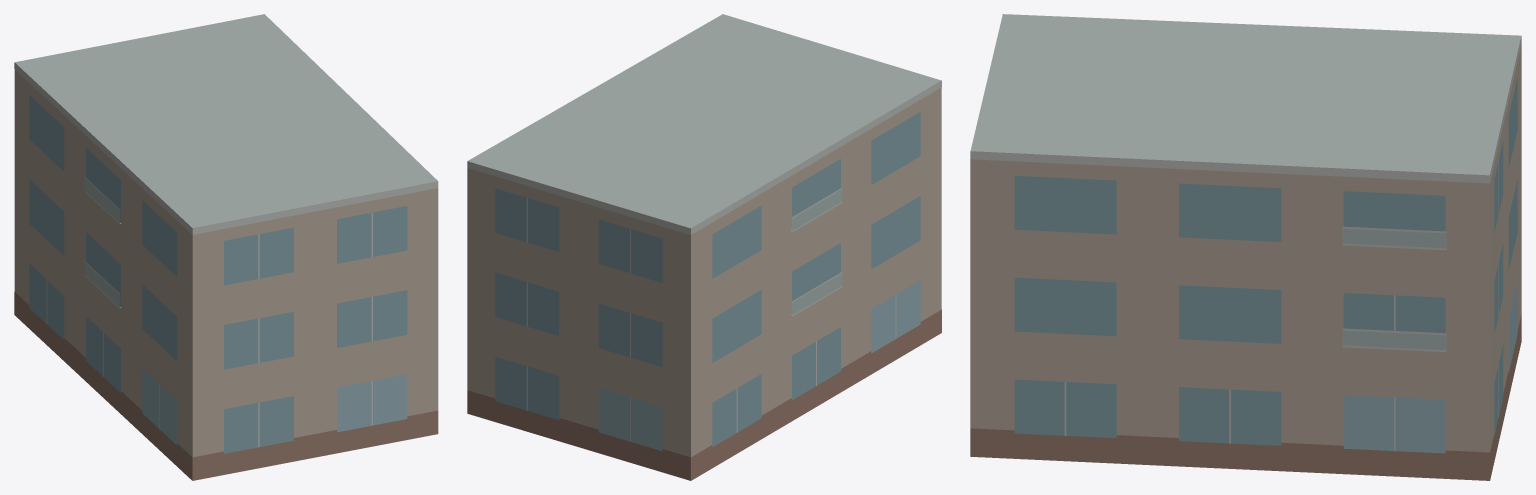
Rendered from survey-upis-32888074.glb.
3 renders of one model, left to right at view 1: azimuth 30°, elevation 25°; view 2: azimuth 150°, elevation 25°; view 3: azimuth 270°, elevation 25°, orthographic. The views are drawn at different scales.
Visible parts, largest first — view 1: survey-upis-32888074.tmp; view 2: survey-upis-32888074.tmp; view 3: survey-upis-32888074.tmp.
Part boxes in pixels (<box>): survey-upis-32888074.tmp: <box>14,14,438,480</box>; survey-upis-32888074.tmp: <box>467,14,941,480</box>; survey-upis-32888074.tmp: <box>970,14,1521,480</box>.
Size of the model in its own units: 10.37 by 9.15 by 14.97.
